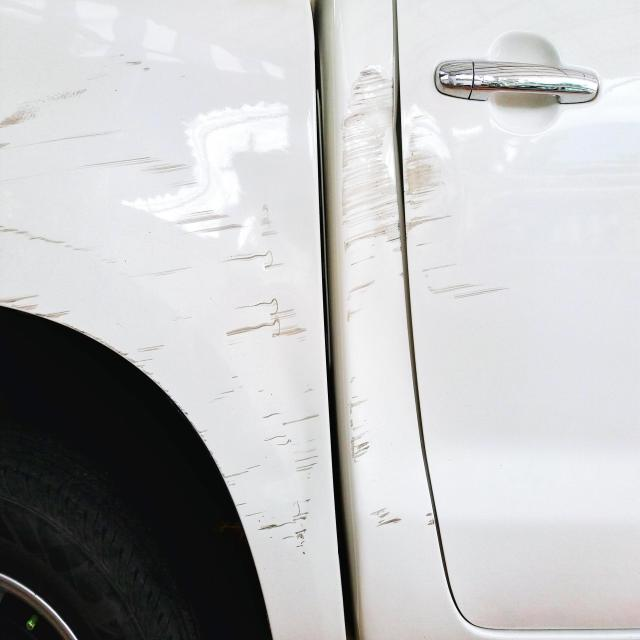scratch: (0, 46, 327, 554), (339, 62, 515, 334), (345, 371, 372, 467), (367, 501, 437, 529)
